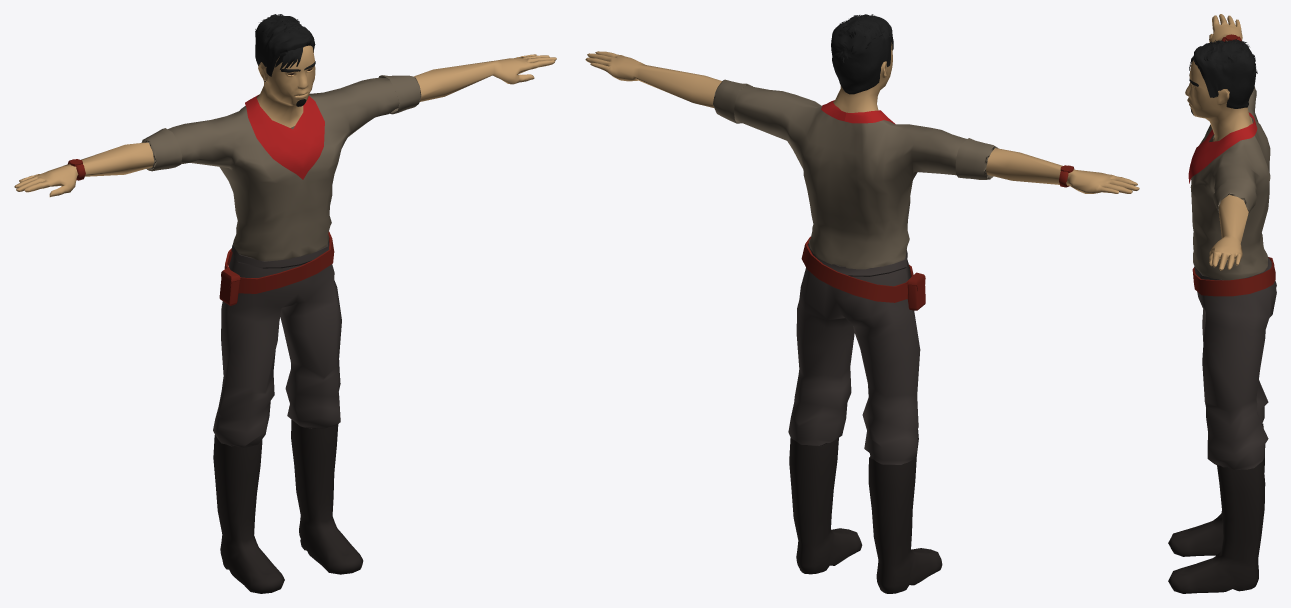
File: beni_clothed_test2.fbx
3 views of the same model, side by side, from view 1: azimuth 30°, elevation 25°; view 2: azimuth 150°, elevation 25°; view 3: azimuth 270°, elevation 25° (orthographic). The views are drawn at different scales.
Visible parts, largest first — view 1: shirt2, pants, boot_base2, polySurface8, bandana1, beni_short01Mesh, belt1; view 2: shirt2, pants, boot_base2, polySurface8, beni_short01Mesh, belt1, bandana1; view 3: pants, boot_base2, shirt2, polySurface8, beni_short01Mesh, belt1, bandana1.
Boxes of the visible parts, x1,y1,x2,y2 form: shirt2: [141, 75, 421, 261]; pants: [213, 240, 341, 448]; boot_base2: [213, 419, 363, 593]; polySurface8: [14, 45, 556, 197]; bandana1: [245, 95, 324, 179]; beni_short01Mesh: [255, 14, 315, 81]; belt1: [219, 231, 334, 305]; shirt2: [713, 79, 998, 269]; pants: [788, 244, 920, 464]; boot_base2: [789, 438, 942, 593]; polySurface8: [585, 42, 1139, 193]; beni_short01Mesh: [831, 14, 893, 94]; belt1: [801, 236, 925, 310]; bandana1: [821, 100, 895, 124]; pants: [1194, 257, 1276, 469]; boot_base2: [1168, 423, 1265, 593]; shirt2: [1190, 86, 1270, 280]; polySurface8: [1185, 14, 1252, 270]; beni_short01Mesh: [1189, 39, 1257, 108]; belt1: [1192, 257, 1275, 296]; bandana1: [1188, 112, 1257, 183].
Size of the model in its own units: 0.1873 by 0.1797 by 0.0337.
